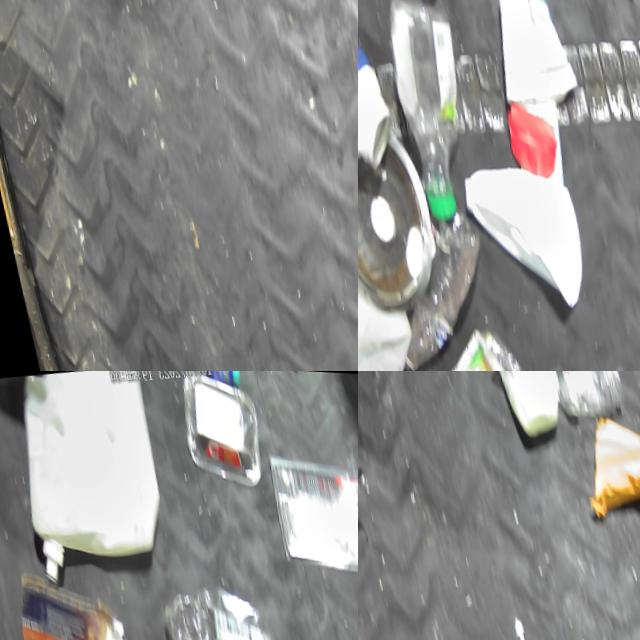milk_jug: (0, 371, 181, 589), (451, 144, 591, 322), (358, 251, 416, 371), (482, 371, 567, 443)
non_white_jug: (358, 0, 396, 175)
plastic_bottle: (371, 193, 496, 371), (153, 573, 287, 640), (398, 315, 535, 371)
